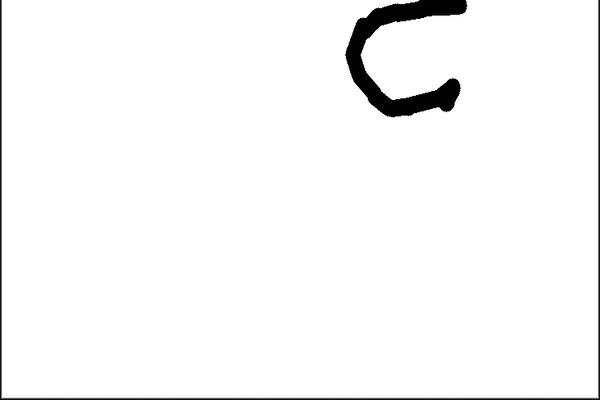C: (346, 0, 471, 119)
